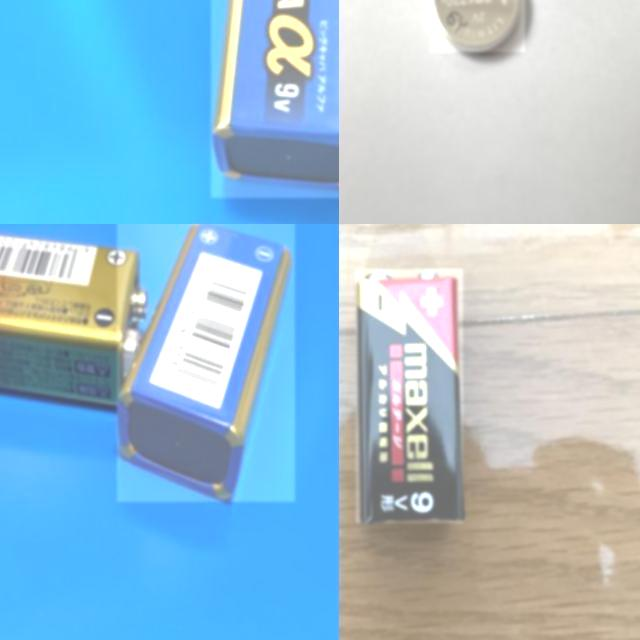9V: (117, 224, 294, 502), (356, 269, 463, 524), (0, 228, 148, 406), (211, 0, 339, 198)
